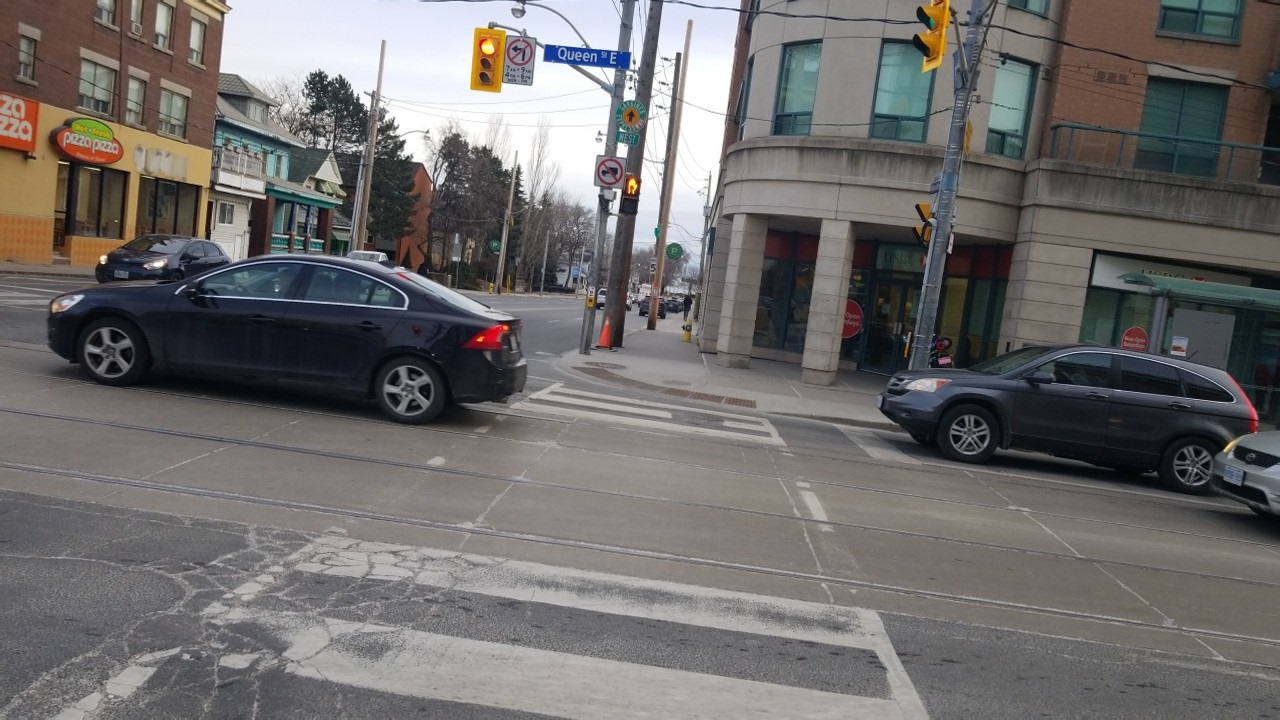light: (620, 173, 641, 216)
